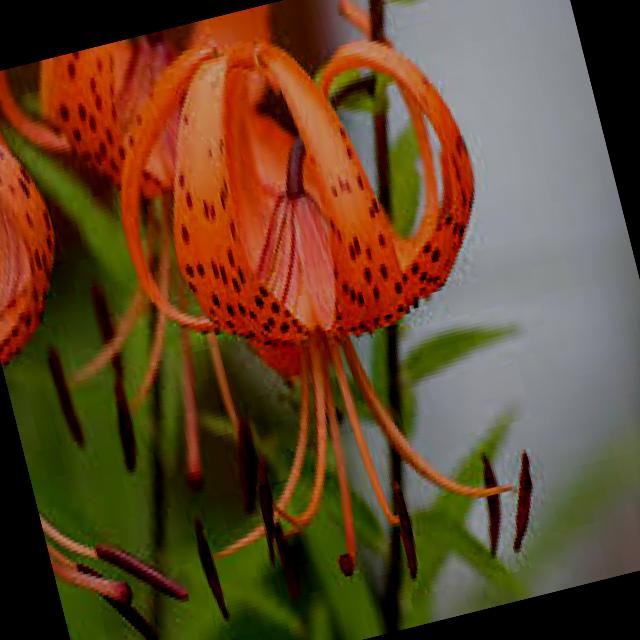lily: (77, 0, 596, 640)
